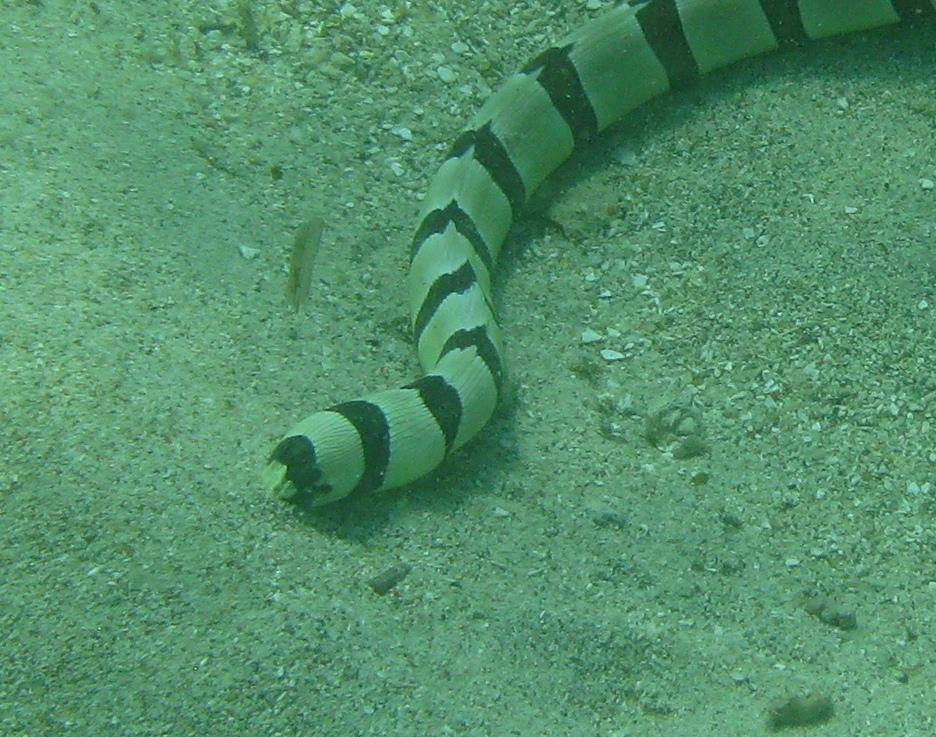Fish: (247, 0, 936, 525)
